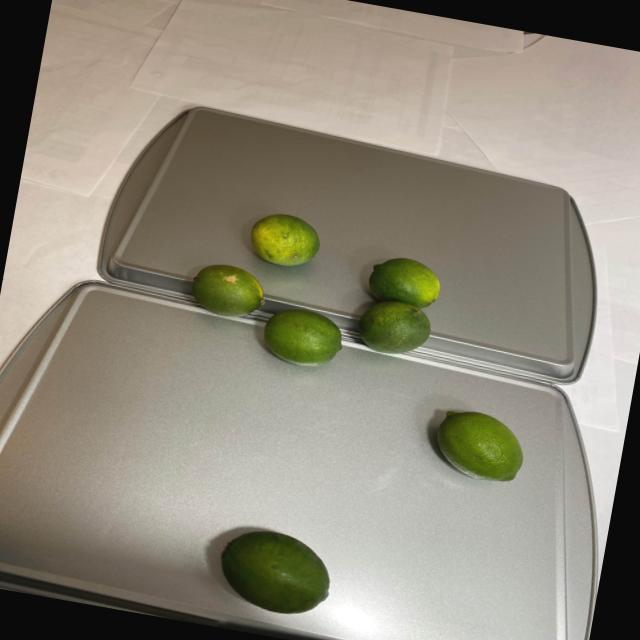lemon: (176, 200, 450, 386), (213, 524, 341, 622), (426, 402, 532, 487)
